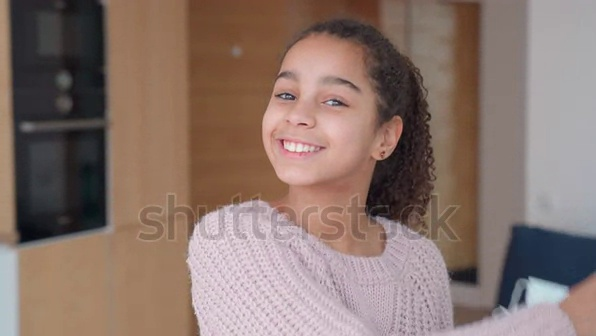No Mask: (252, 117, 370, 188)
